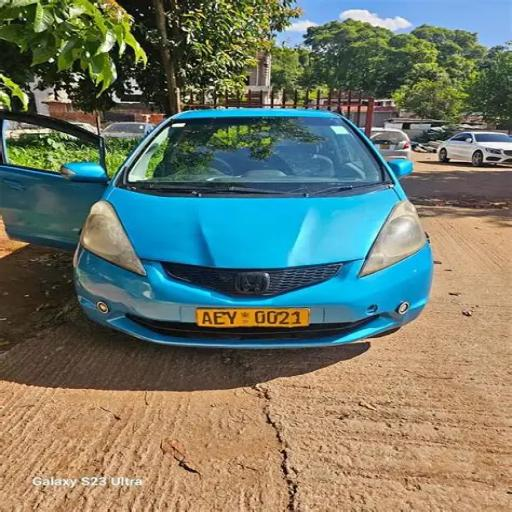number-plates: (193, 306, 313, 328)
